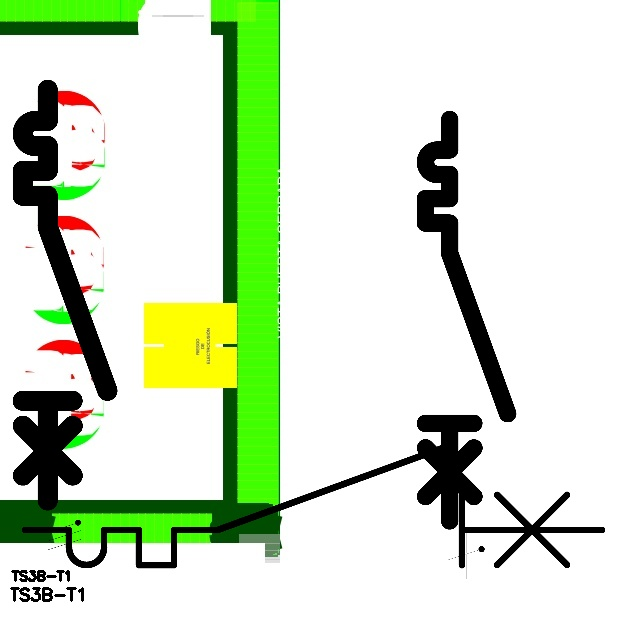interruptor_termomagnetico: (10, 431, 617, 580), (12, 79, 118, 511), (415, 109, 518, 532)
